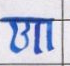aa_matra: (48, 24, 51, 49)
